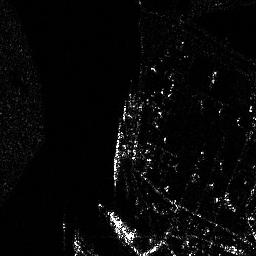ship: (98, 203, 135, 242)
